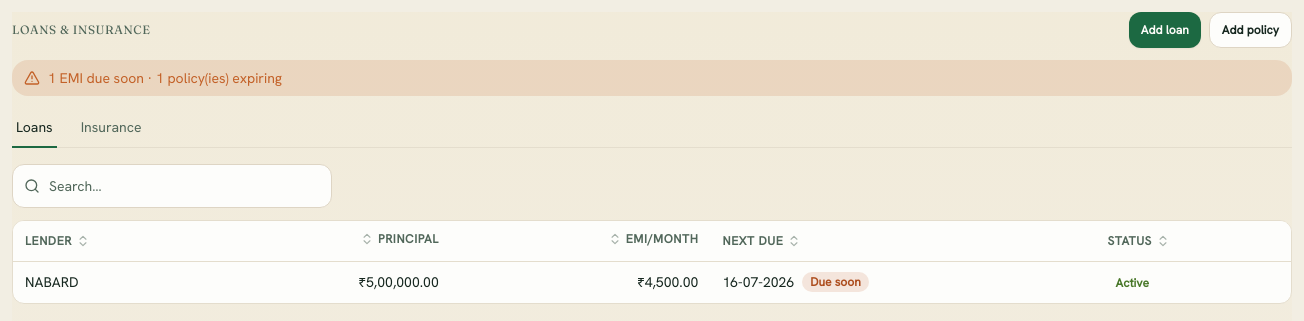
Test: EmiInsurancePanel (11.6c conversion) › renders loans with a due-soon badge, the reminder strip, and the insurance tab
Check: the text "NABARD" is shown, box x1=25 y1=273 x2=79 y2=291
Check: the text "₹5,00,000.00" is shown, box x1=214 y1=261 x2=451 y2=302
What coordinates should you click on to do the following:
click the tab "Insurance"
I would click on:
 (111, 128)
Its box is x1=77 y1=108 x2=146 y2=148.
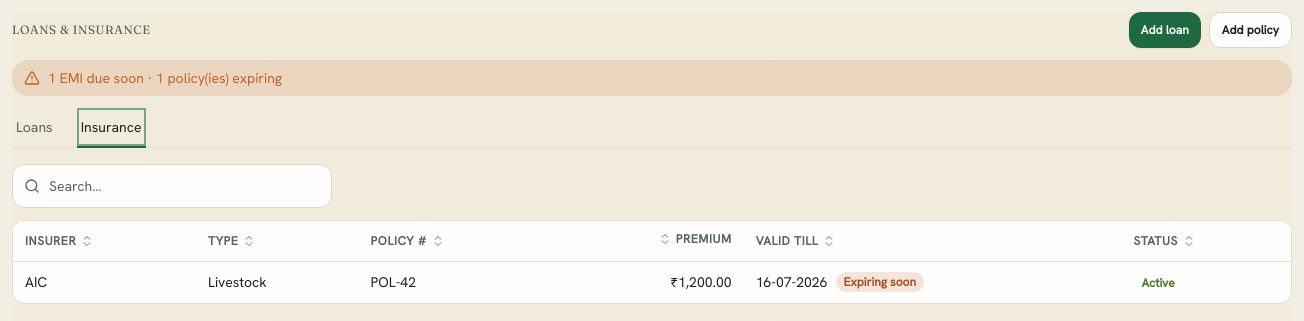
Check: the text "AIC" is shown, box x1=25 y1=273 x2=47 y2=291
Check: the text "POL-42" is shown, box x1=359 y1=261 x2=551 y2=302
Check: the text "Expiring soon" is shown, box x1=836 y1=272 x2=924 y2=292
